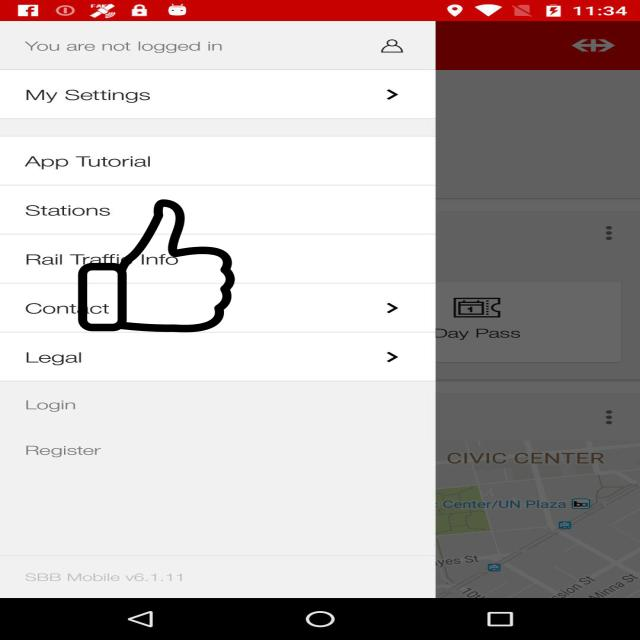privacy zuckering: (76, 200, 237, 332)
